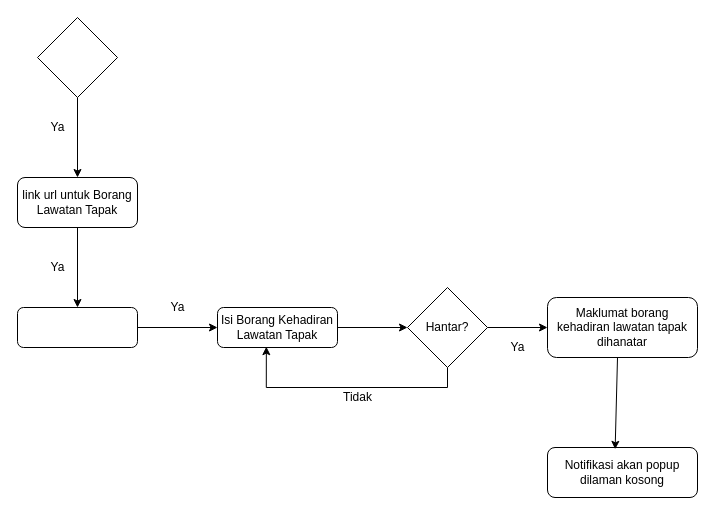
Some shapes in this 715 by 515 pixel diagram are drawn without their labels. Here are the shapes that lost their labels. From the top down, the centre of each, then its label:
the point at 77,57: Pengguna
the point at 77,327: Halaman Borang Lawatan Tapak
